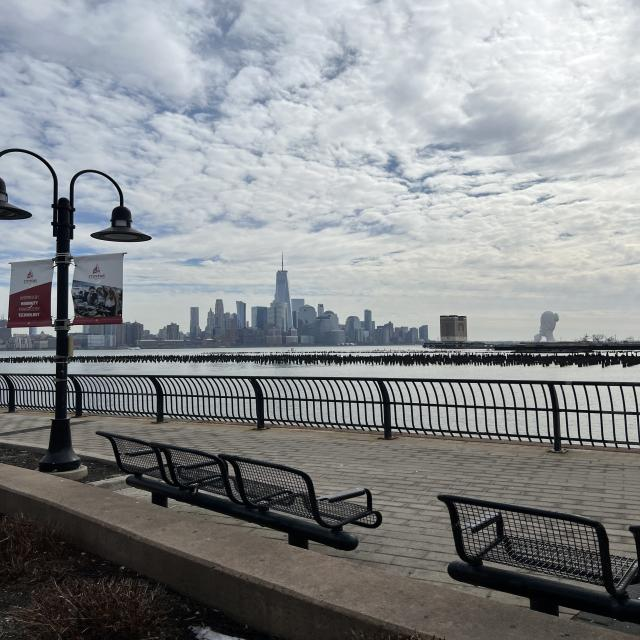WTC: (274, 252, 292, 304)
